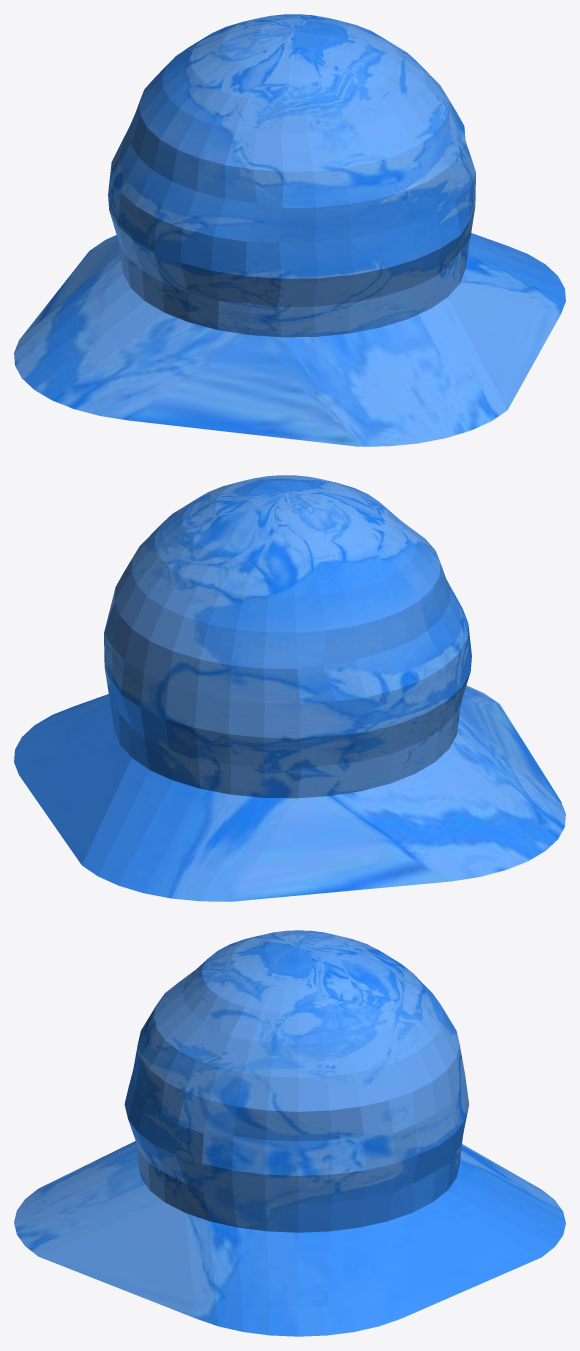
Rendered from Guard_Blob.glb.
3 renders of one model, top to bottom at view 1: azimuth 30°, elevation 25°; view 2: azimuth 150°, elevation 25°; view 3: azimuth 270°, elevation 25°, orthographic. The views are drawn at different scales.
Parts seen in each view (by area): view 1: Sphere; view 2: Sphere; view 3: Sphere.
Boxes of the visible parts, x1=… form: Sphere: x1=14, y1=14, x2=565, y2=446; Sphere: x1=14, y1=475, x2=565, y2=901; Sphere: x1=14, y1=930, x2=565, y2=1336.
Size of the model in its own units: 0.6339 by 0.3514 by 0.6339.
1 material, 1 textured.
